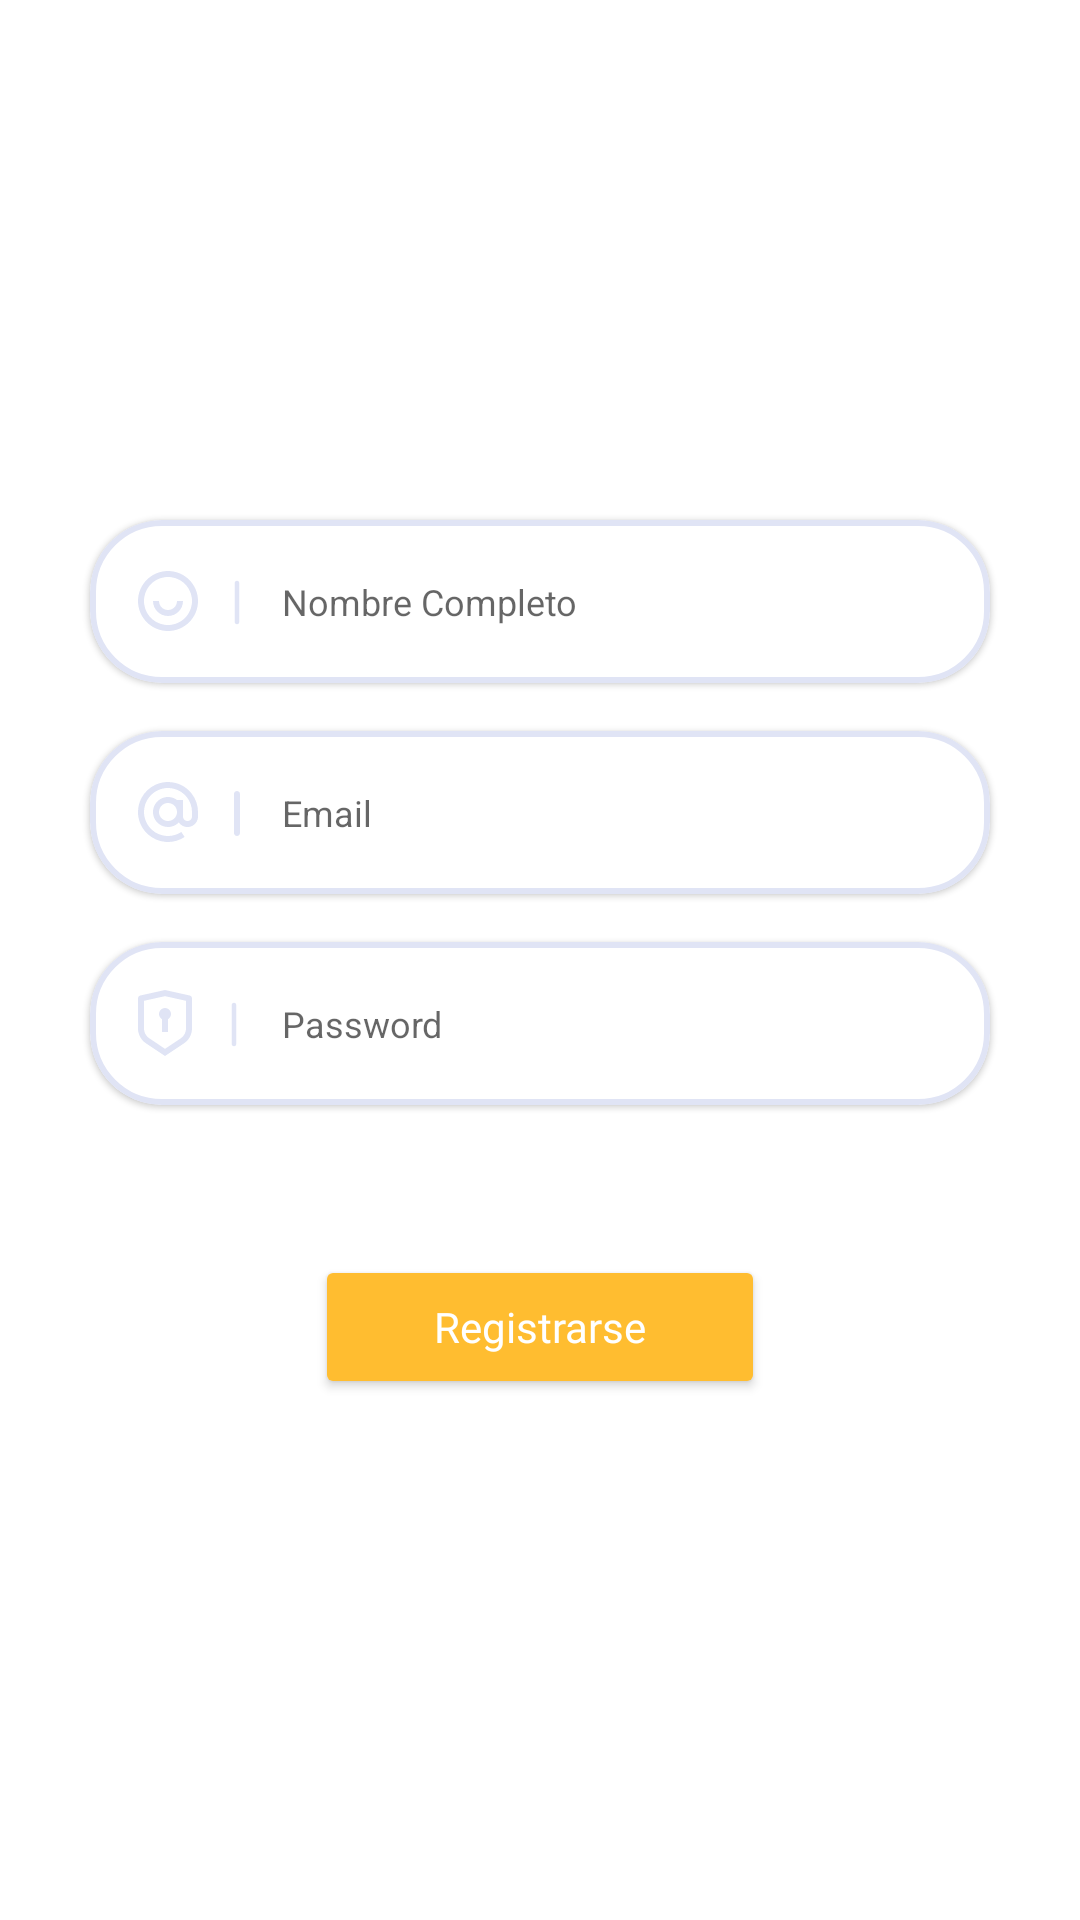

Point at icon controls on the screen. Image size 1080*1920, points as [x,y].
name field: [188,601]
pass field: [187,1022]
